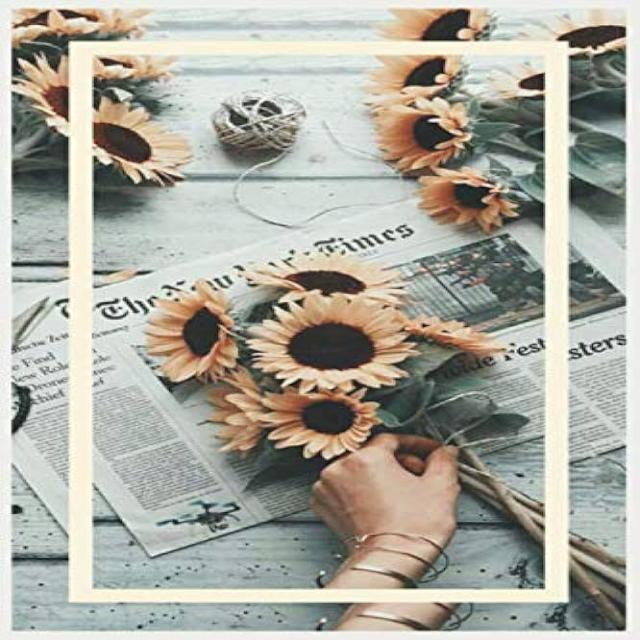sunflower: (243, 290, 420, 391), (236, 250, 412, 309), (142, 280, 241, 383), (258, 380, 382, 460), (92, 96, 194, 187), (371, 93, 473, 173), (413, 165, 521, 234), (199, 365, 274, 454), (9, 7, 158, 46), (514, 8, 626, 54), (12, 50, 69, 138), (402, 314, 508, 358), (374, 6, 492, 42), (365, 54, 459, 99), (94, 49, 180, 83), (480, 60, 547, 99)
